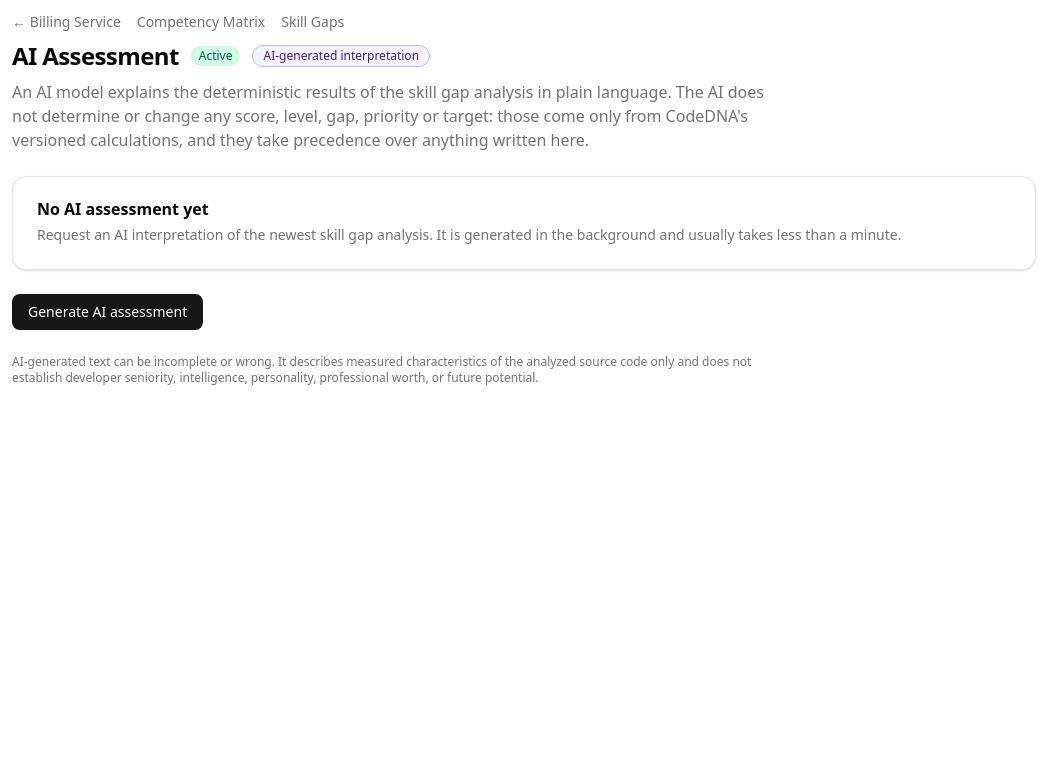
Scenario: AssessmentView › offers to generate an assessment when there is none, and sends no prompt or model
The width and height of the screenshot is (1053, 760).
Expected: the element with test id "assessment-none" shows "No AI assessment yet", [37,198,209,220]
Click the button "Generate AI assessment". click: [108, 312]
box: [12,294,203,330]
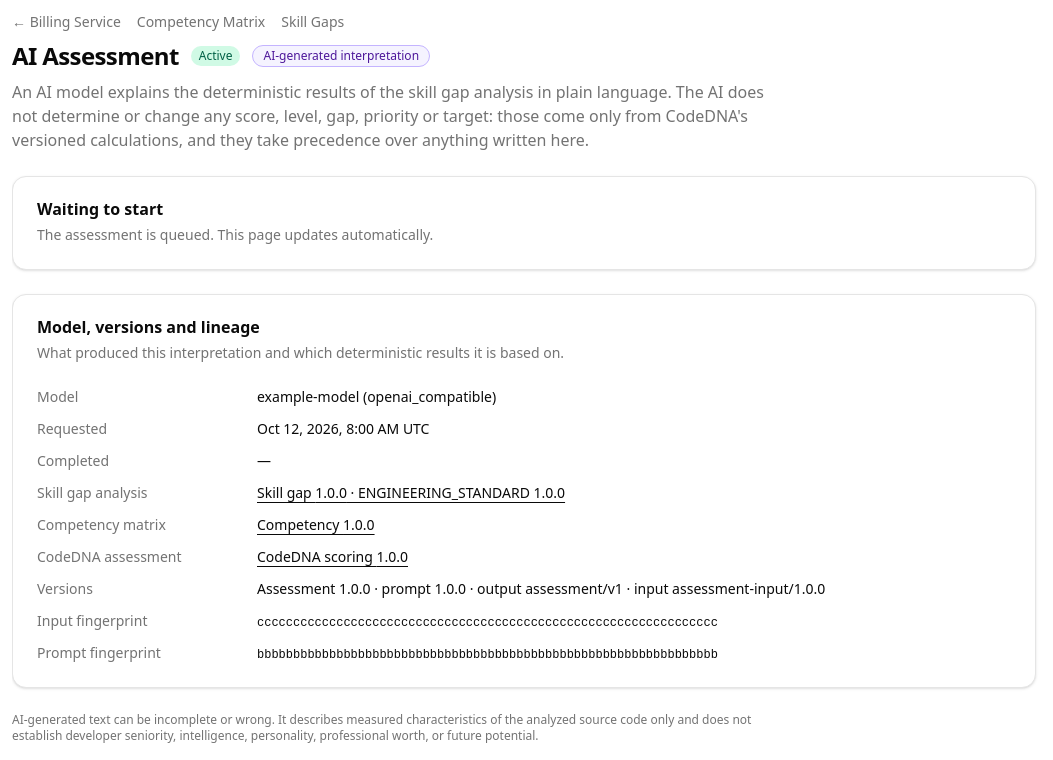
Result: the message with test id "assessment-queued" shows "Waiting to start" at [37,198,163,220]
